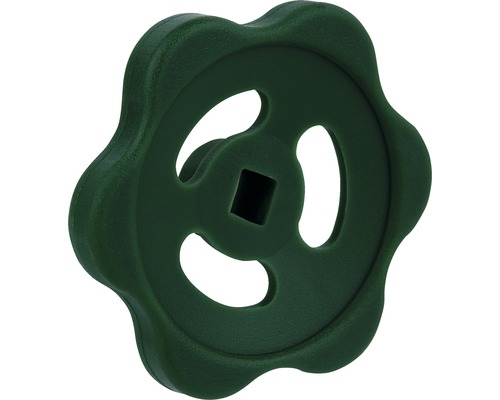valve: (69, 1, 432, 399)
